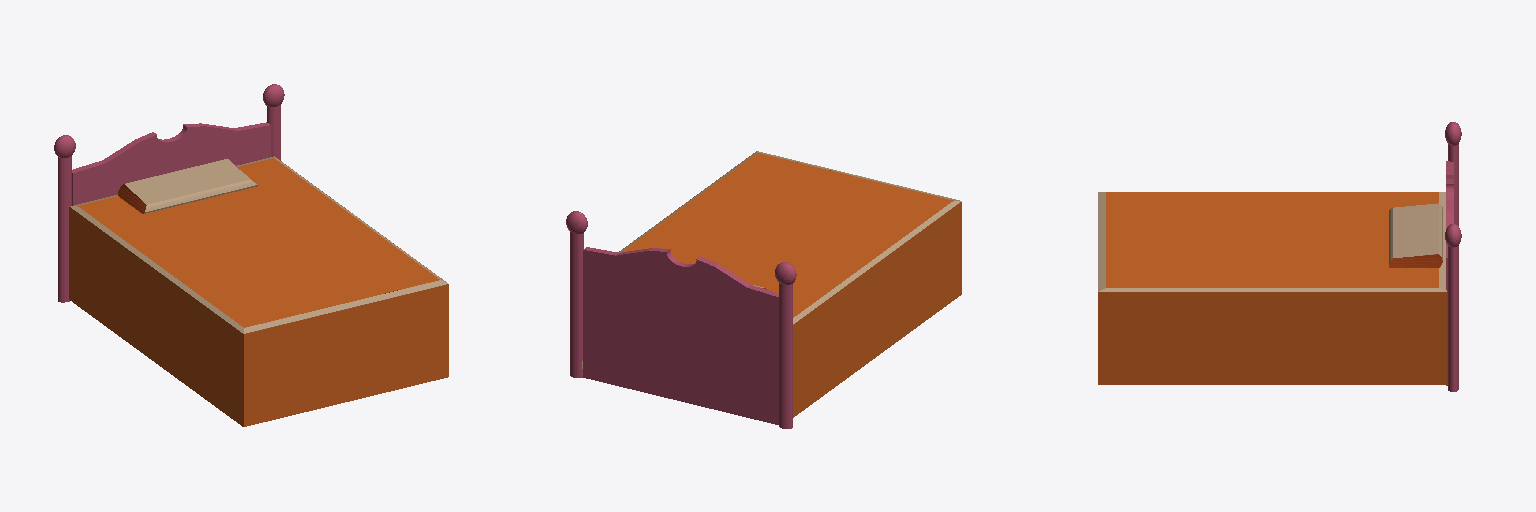
The picture shows the model from 3 angles: view 1: azimuth 30°, elevation 25°; view 2: azimuth 150°, elevation 25°; view 3: azimuth 270°, elevation 25°; orthographic projection.
Parts seen in each view (by area): view 1: Cube.012_Cube.032; view 2: Cube.012_Cube.032; view 3: Cube.012_Cube.032.
Boxes of the visible parts, x1,y1,x2,y2 form: Cube.012_Cube.032: [54, 84, 448, 426]; Cube.012_Cube.032: [566, 151, 961, 428]; Cube.012_Cube.032: [1098, 122, 1461, 391].
Size of the model in its own units: 16 by 11 by 22.
Materials: 1 (1 with a texture image).